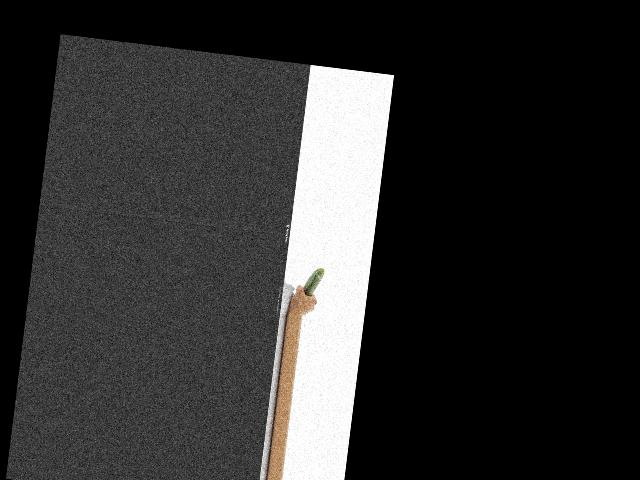cucumber: (302, 266, 324, 297)
